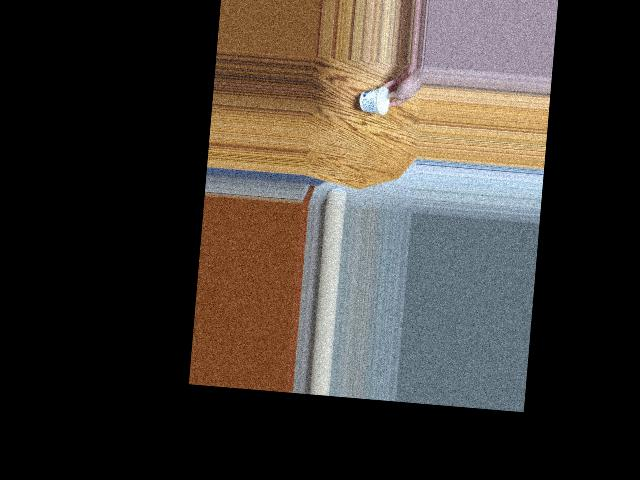cotage: (362, 84, 395, 118)
